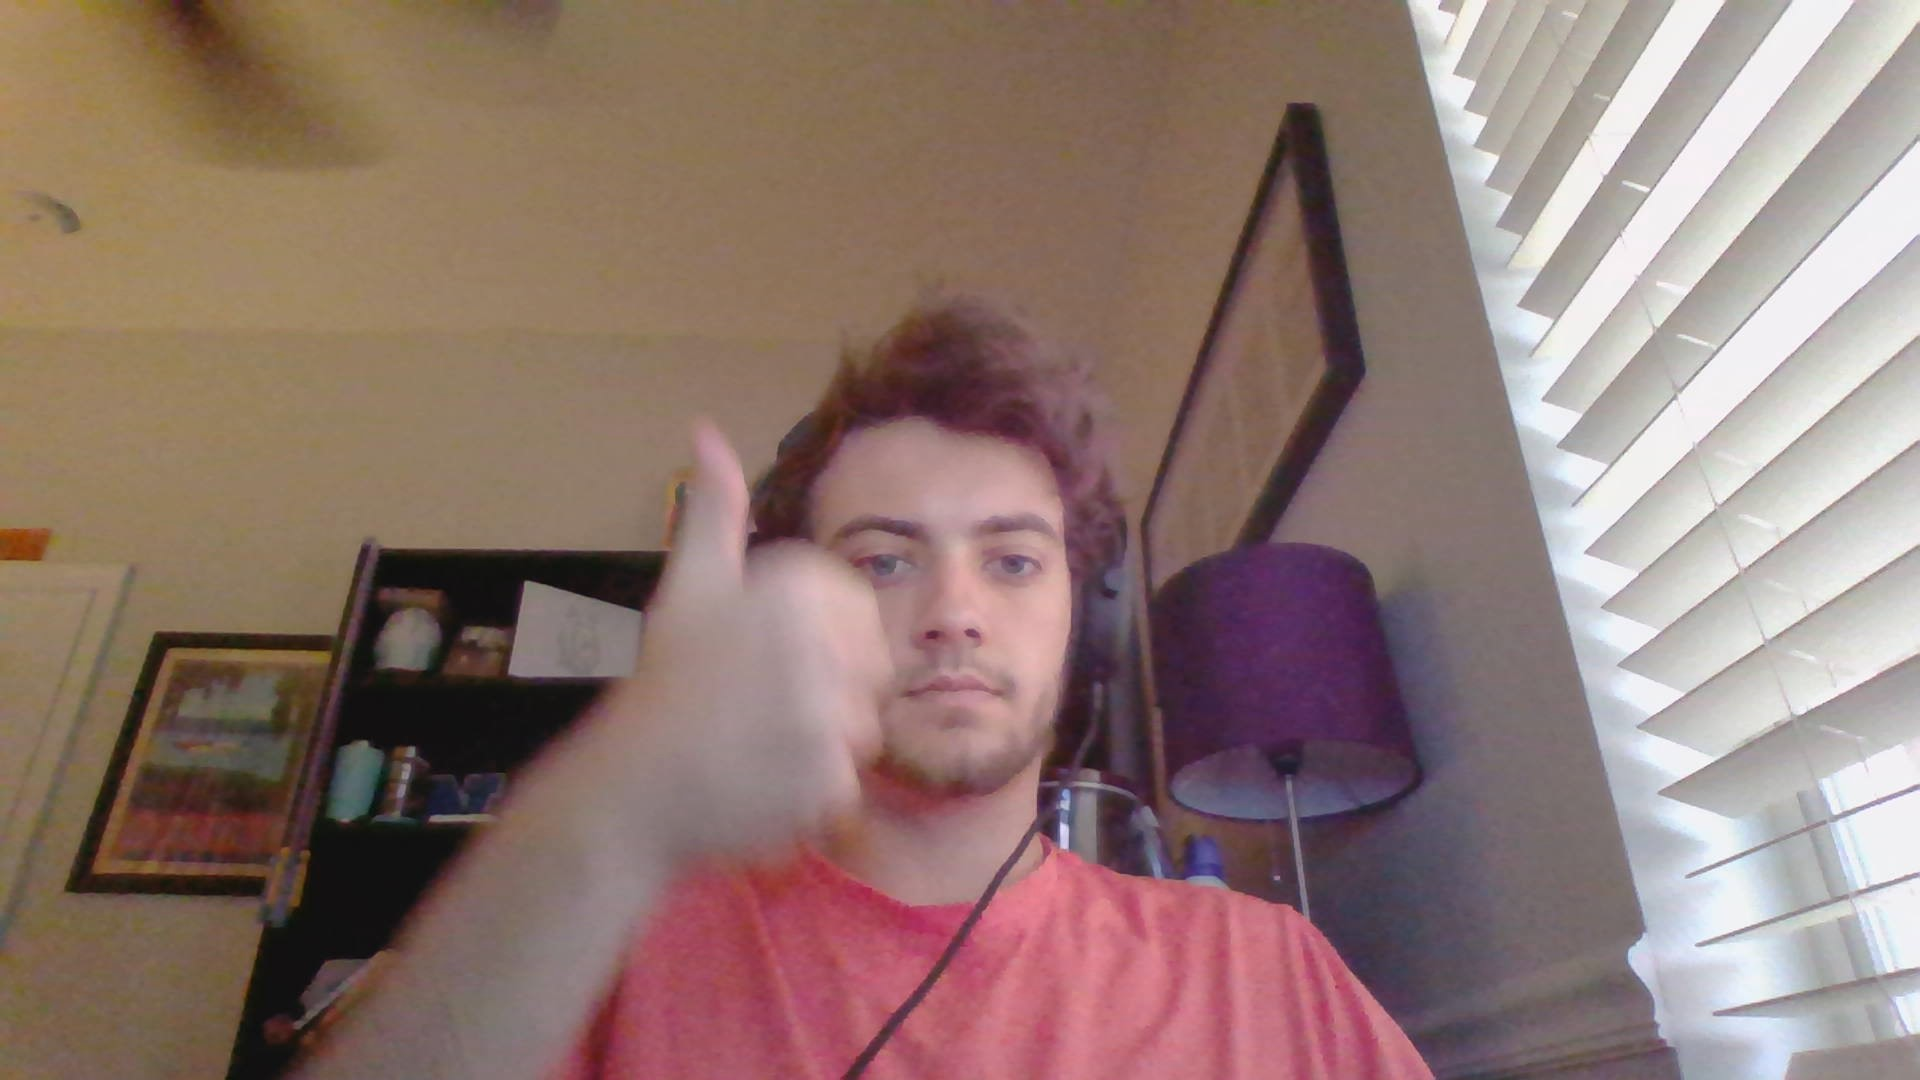Right Thumb Up: (591, 406, 918, 881)
